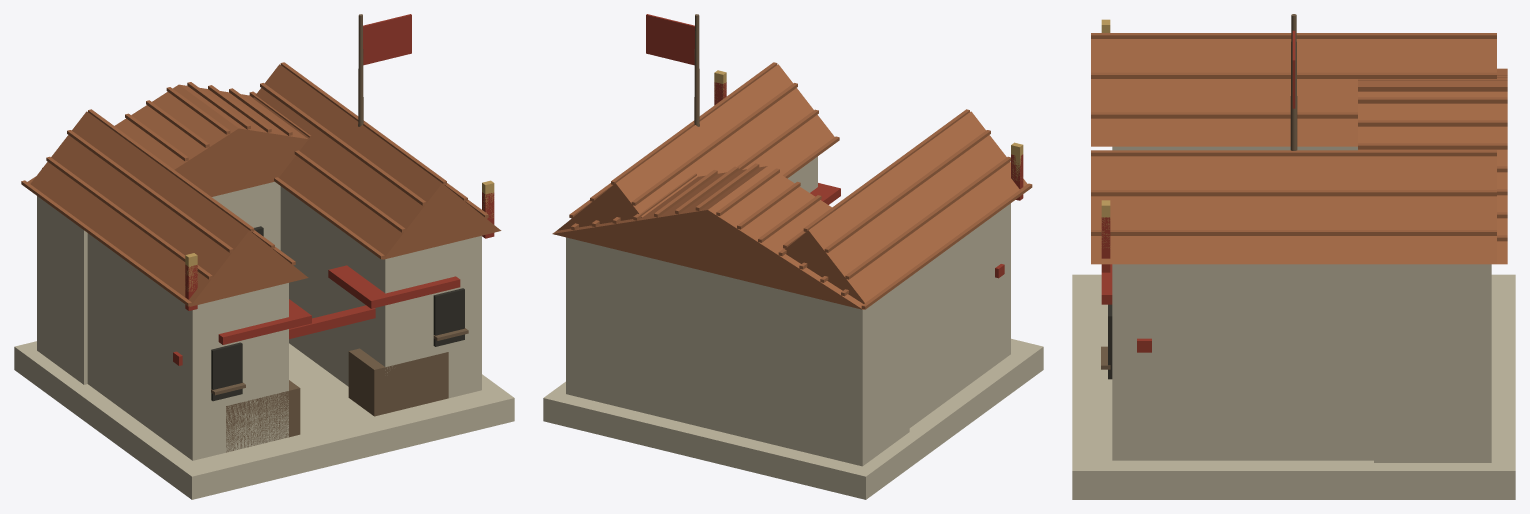
The model's file is b-market-roman.glb.
3 views of the same model, side by side, from view 1: azimuth 30°, elevation 25°; view 2: azimuth 150°, elevation 25°; view 3: azimuth 270°, elevation 25° (orthographic). The views are drawn at different scales.
Visible parts, largest first — view 1: Structure, era1, era3; view 2: Structure; view 3: Structure.
Boxes of the visible parts, x1,y1,x2,y2 form: Structure: (14, 14, 514, 499); era1: (185, 201, 494, 310); era3: (185, 180, 494, 291); Structure: (543, 14, 1043, 499); Structure: (1072, 14, 1515, 499).
Bounding box in the file's own units: 4.35 × 4.6 × 4.15.
